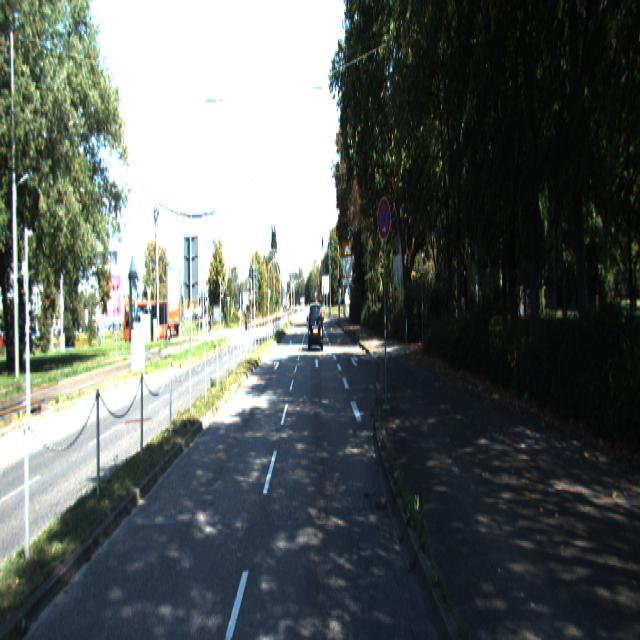Car: (308, 302, 324, 352)
